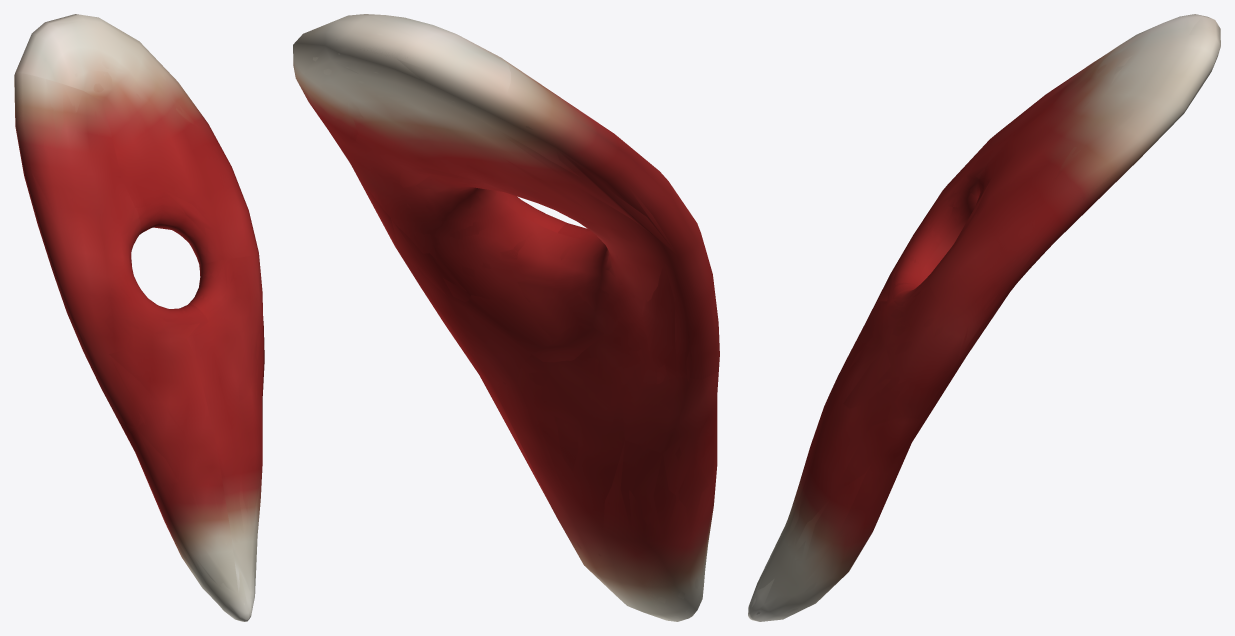
File: Anus.fbx
3 views of the same model, side by side, from view 1: azimuth 30°, elevation 25°; view 2: azimuth 150°, elevation 25°; view 3: azimuth 270°, elevation 25° (orthographic). The views are drawn at different scales.
Visible parts, largest first — view 1: Anus, Anus low, Anus high; view 2: Anus, Anus low, Anus high; view 3: Anus, Anus low, Anus high.
Part boxes in pixels (bbox=[...]): Anus: bbox=[14, 14, 264, 621]; Anus low: bbox=[14, 15, 264, 618]; Anus high: bbox=[24, 18, 262, 619]; Anus: bbox=[293, 14, 719, 621]; Anus low: bbox=[293, 16, 718, 617]; Anus high: bbox=[307, 21, 709, 617]; Anus: bbox=[748, 14, 1220, 621]; Anus low: bbox=[748, 14, 1220, 617]; Anus high: bbox=[749, 16, 1218, 620].
Bounding box in the file's own units: 0.7959 × 1.83 × 1.32.
Materials: 1 (1 with a texture image).
